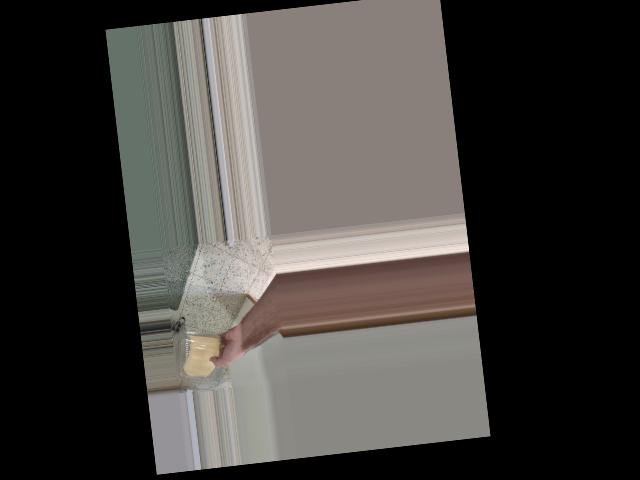cheese: (176, 327, 226, 381)
